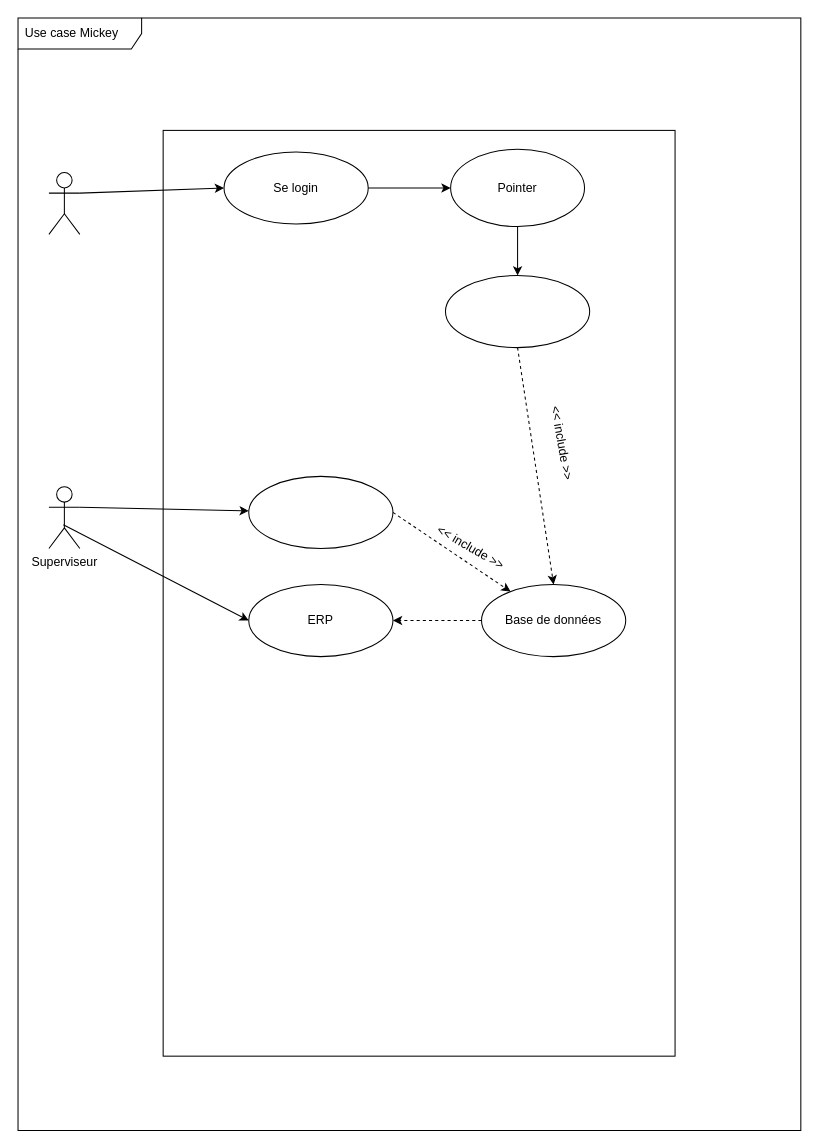
This 819x1148 diagram has some shape labels left out. The box of each missing label's shape, as (x1, y1, x2, y2) in pixels:
Bouton: (444, 274, 590, 348)
Gérer le dashboard: (248, 475, 393, 548)
Opérateur: (48, 171, 80, 234)
